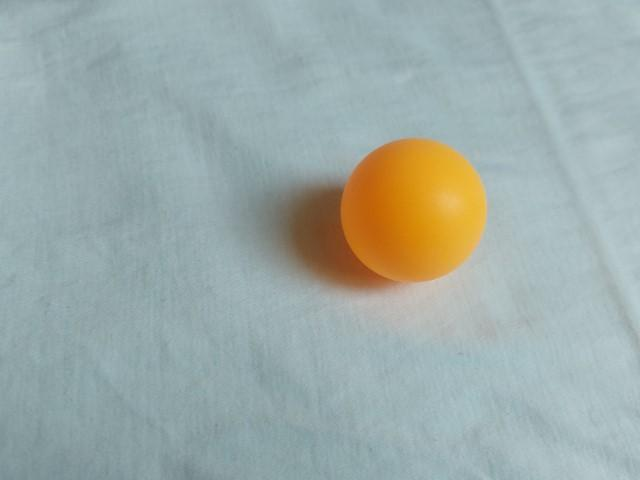oball: (329, 131, 500, 290)
